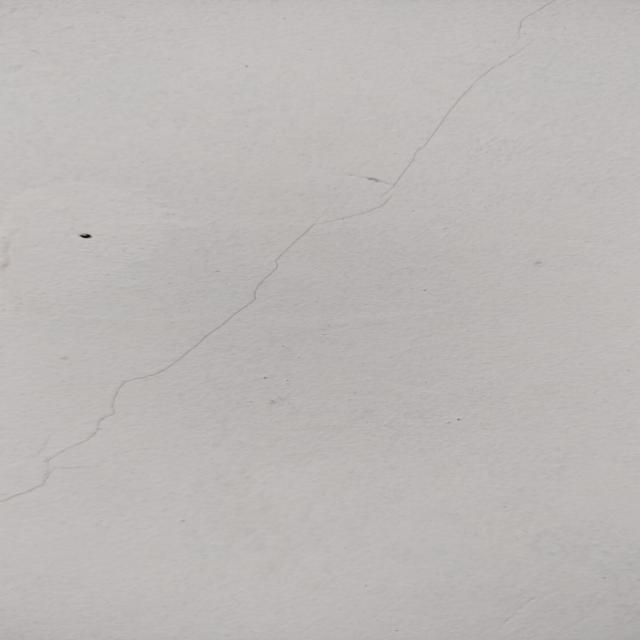Crack: (7, 2, 551, 494)
